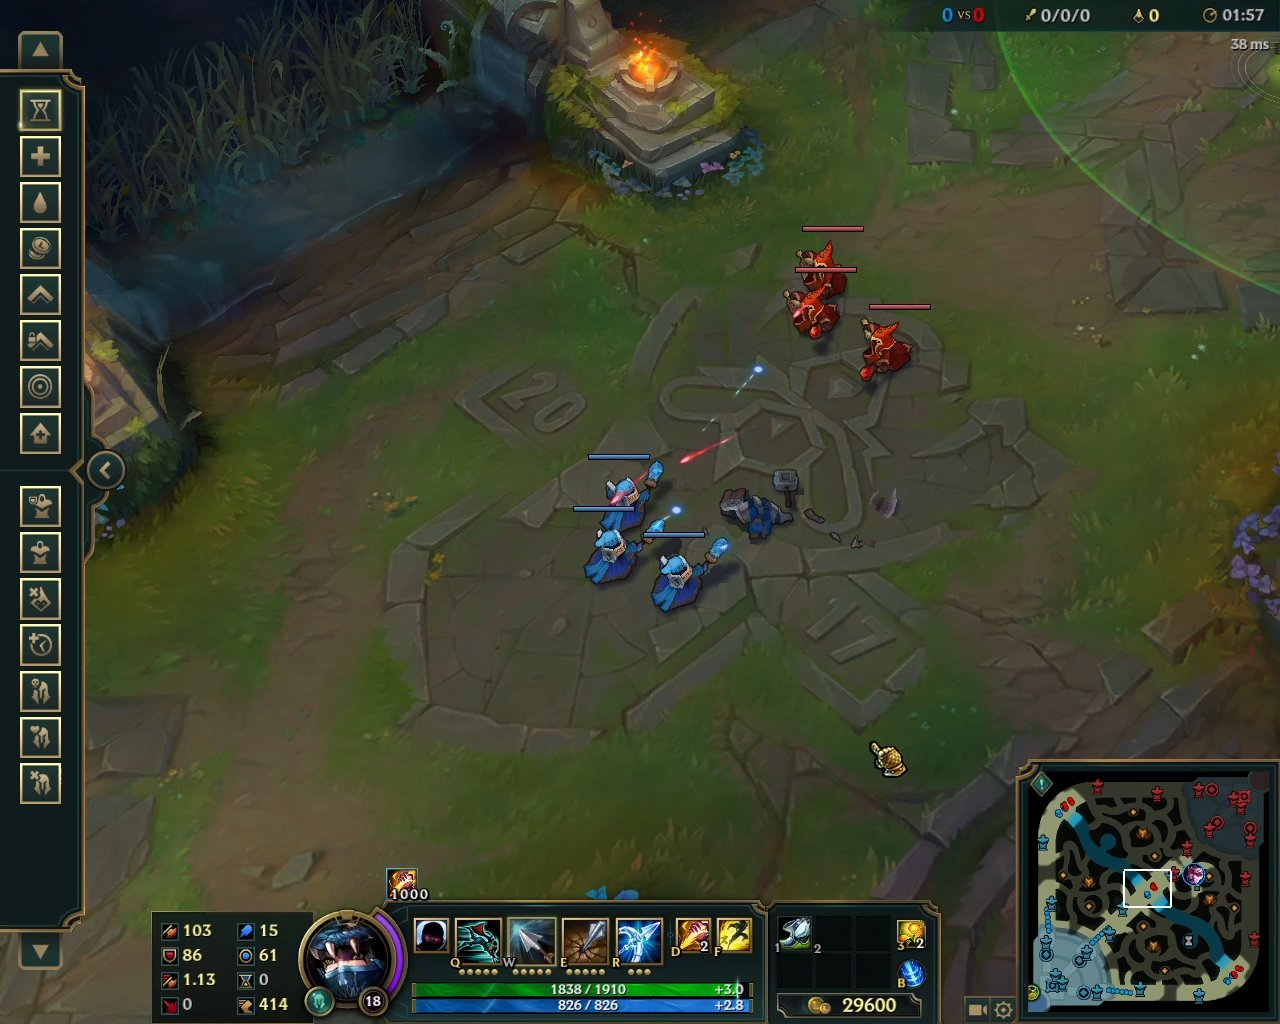EnemyMinion: (789, 224, 866, 303), (857, 303, 931, 382), (779, 266, 857, 342)
